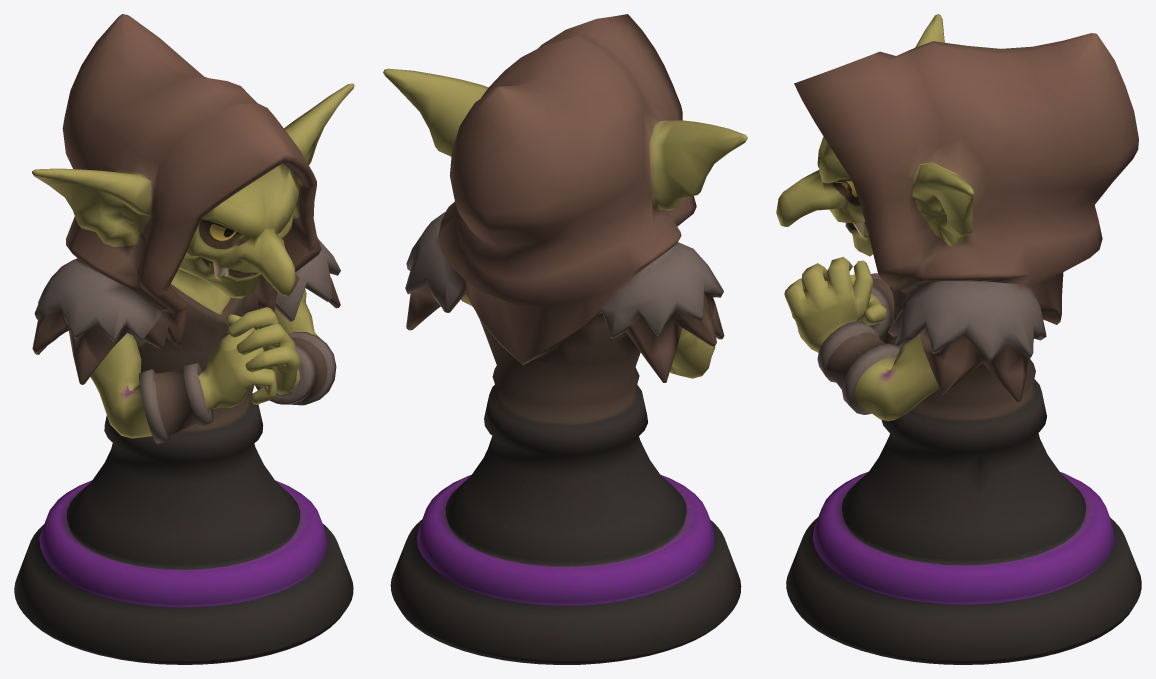
Rendered from enemy_goblin.obj.
3 views of the same model, side by side, from view 1: azimuth 30°, elevation 25°; view 2: azimuth 150°, elevation 25°; view 3: azimuth 270°, elevation 25° (orthographic). The views are drawn at different scales.
Visible parts, largest first — view 1: enemy_goblin; view 2: enemy_goblin; view 3: enemy_goblin.
Part boxes in pixels (bbox=[...]): enemy_goblin: bbox=[14, 14, 354, 664]; enemy_goblin: bbox=[383, 14, 747, 664]; enemy_goblin: bbox=[776, 14, 1141, 664].
Size of the model in its own units: 0.6597 by 0.9995 by 0.5923.
Materials: 1 (1 with a texture image).
